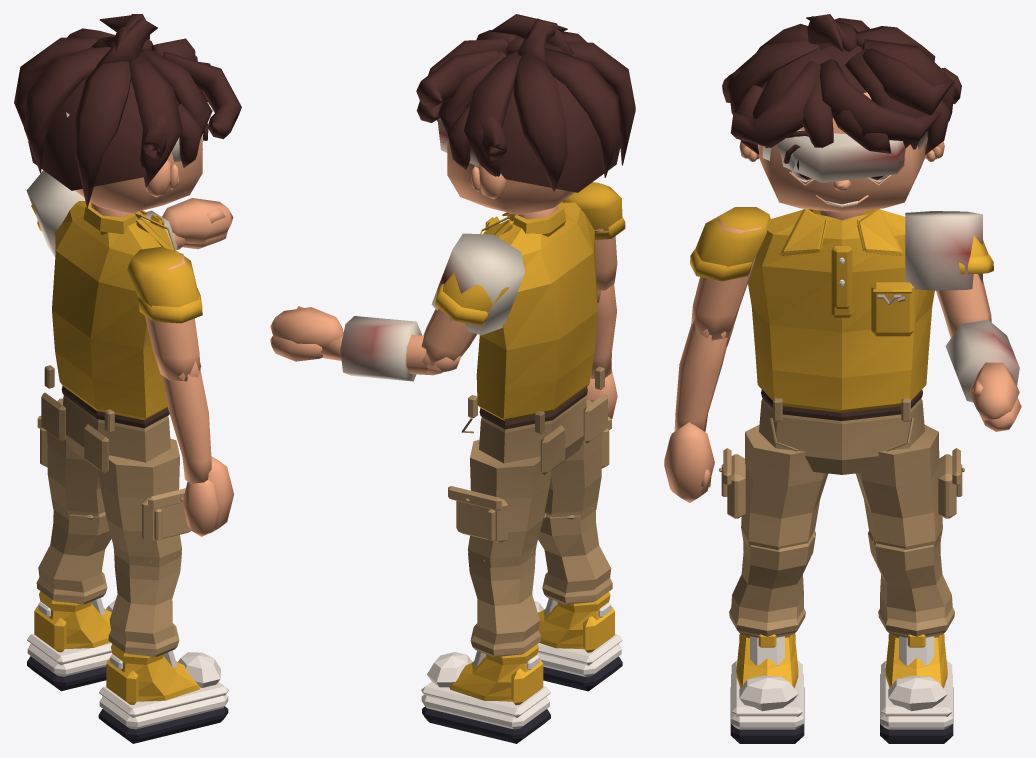
The picture shows the model from 3 angles, left to right: view 1: azimuth 30°, elevation 25°; view 2: azimuth 150°, elevation 25°; view 3: azimuth 270°, elevation 25°; orthographic projection. The views are drawn at different scales.
Parts seen in each view (by area): view 1: head_pal_hairChestnut, torso_pal_schoolBusYellow, legR_pal_khaki, shinR_pal_khaki, hip_pal_khaki, shinL_pal_khaki, footR_pal_picketWhite, armR_pal_schoolBusYellow, head_pal_skinWarm, foreArmR_pal_skinWarm, legL_pal_khaki, footR_pal_schoolBusYellow (+9 smaller); view 2: head_pal_hairChestnut, torso_pal_schoolBusYellow, legL_pal_khaki, hip_pal_khaki, shinL_pal_khaki, shinR_pal_khaki, armL_pal_picketWhite, footL_pal_picketWhite, foreArmL_pal_picketWhite, head_pal_skinWarm, legR_pal_khaki, footL_pal_schoolBusYellow (+13 smaller); view 3: torso_pal_schoolBusYellow, head_pal_hairChestnut, legL_pal_khaki, legR_pal_khaki, hip_pal_khaki, shinR_pal_khaki, shinL_pal_khaki, head_pal_skinWarm, armL_pal_picketWhite, head_pal_picketWhite, footL_pal_picketWhite, footR_pal_picketWhite (+13 smaller).
Part boxes in pixels (bbox=[...]): head_pal_hairChestnut: bbox=[14, 14, 241, 207]; torso_pal_schoolBusYellow: bbox=[52, 201, 176, 420]; legR_pal_khaki: bbox=[98, 438, 191, 567]; shinR_pal_khaki: bbox=[108, 551, 181, 656]; hip_pal_khaki: bbox=[41, 365, 170, 473]; shinL_pal_khaki: bbox=[36, 509, 111, 604]; footR_pal_picketWhite: bbox=[99, 650, 228, 729]; armR_pal_schoolBusYellow: bbox=[127, 247, 202, 323]; head_pal_skinWarm: bbox=[75, 137, 203, 217]; foreArmR_pal_skinWarm: bbox=[162, 361, 211, 484]; legL_pal_khaki: bbox=[37, 398, 104, 519]; footR_pal_schoolBusYellow: bbox=[106, 644, 200, 704]; head_pal_hairChestnut: bbox=[416, 14, 635, 192]; torso_pal_schoolBusYellow: bbox=[476, 202, 597, 421]; legL_pal_khaki: bbox=[448, 439, 551, 567]; hip_pal_khaki: bbox=[461, 366, 607, 474]; shinL_pal_khaki: bbox=[468, 551, 540, 657]; shinR_pal_khaki: bbox=[538, 508, 612, 604]; armL_pal_picketWhite: bbox=[431, 233, 524, 335]; footL_pal_picketWhite: bbox=[421, 651, 550, 729]; foreArmL_pal_picketWhite: bbox=[340, 316, 422, 381]; head_pal_skinWarm: bbox=[447, 109, 574, 219]; legR_pal_khaki: bbox=[544, 399, 611, 520]; footL_pal_schoolBusYellow: bbox=[449, 644, 543, 705]; torso_pal_schoolBusYellow: bbox=[748, 209, 934, 412]; head_pal_hairChestnut: bbox=[722, 14, 961, 179]; legL_pal_khaki: bbox=[856, 425, 964, 549]; legR_pal_khaki: bbox=[719, 425, 828, 549]; hip_pal_khaki: bbox=[759, 398, 924, 474]; shinR_pal_khaki: bbox=[729, 530, 815, 637]; shinL_pal_khaki: bbox=[868, 530, 954, 637]; head_pal_skinWarm: bbox=[739, 92, 944, 220]; armL_pal_picketWhite: bbox=[905, 211, 982, 290]; head_pal_picketWhite: bbox=[762, 129, 927, 206]; footL_pal_picketWhite: bbox=[880, 636, 952, 729]; footR_pal_picketWhite: bbox=[731, 636, 803, 729].
Size of the model in its own units: 0.7738 by 1.81 by 0.8318.
